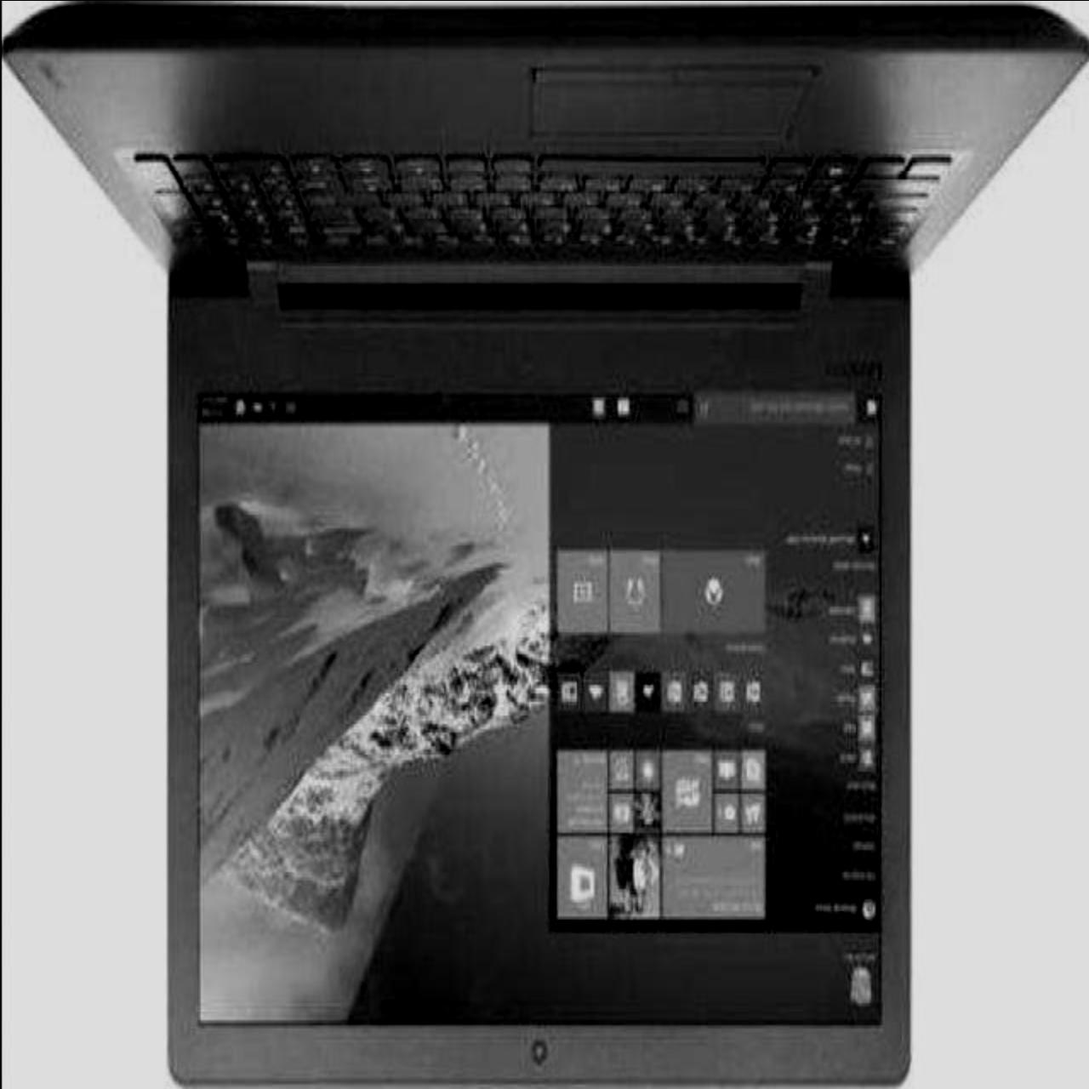laptop: (29, 0, 972, 1079)
